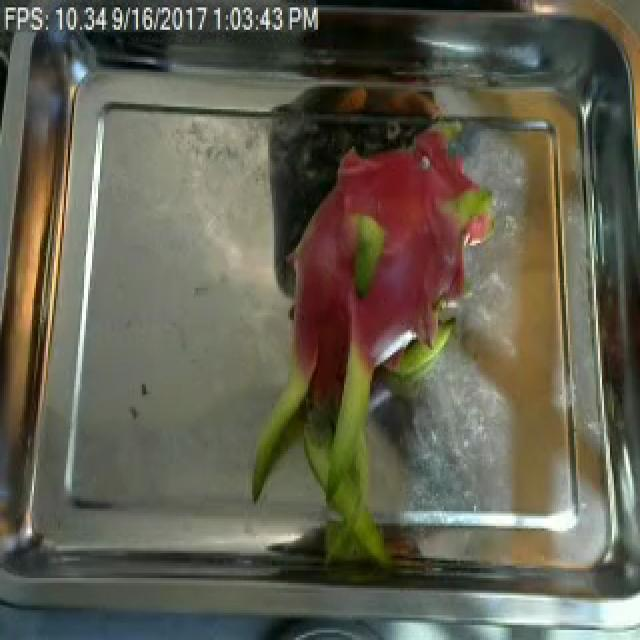fruit: (240, 114, 490, 551)
